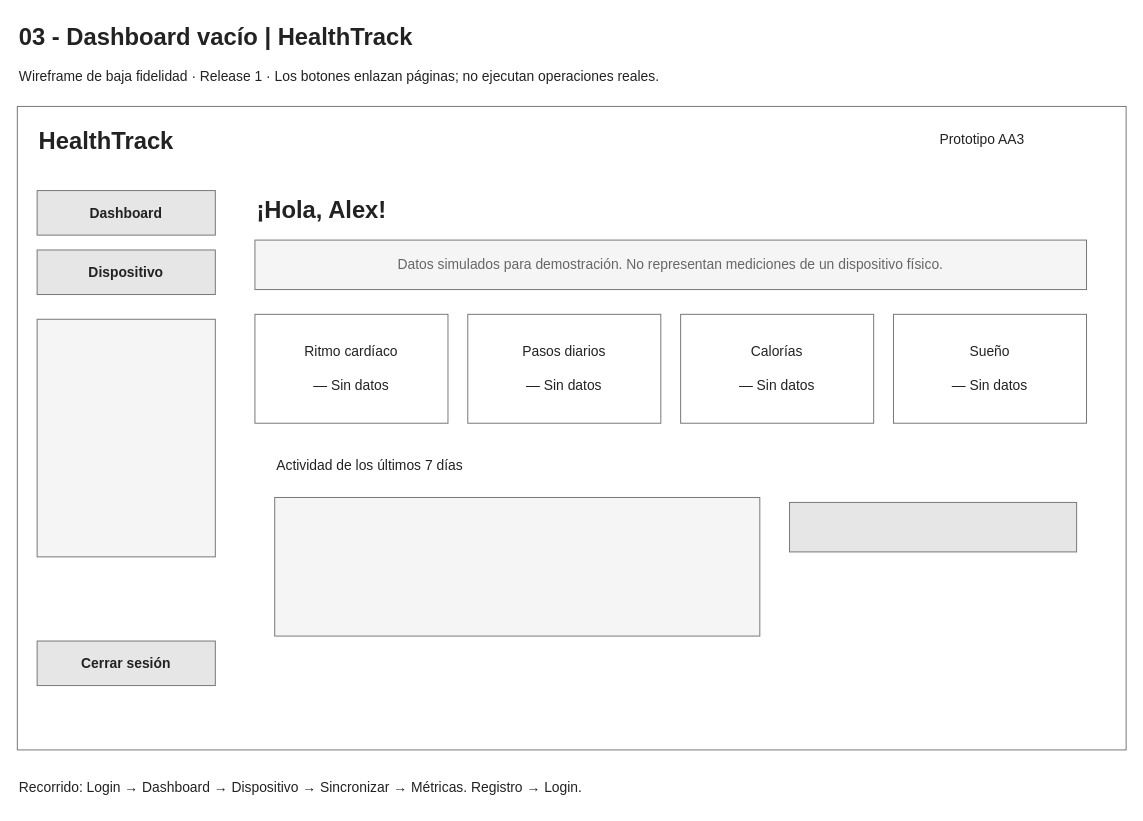
Some shapes in this 1143 by 821 pixel diagram are drawn without their labels. Each missing label, with the centre of its shape:
Aún no hay métricas. Registra un dispositivo y sincroniza.: the point at 517,566
Estadísticas · Pronto Metas · Pronto Historial · Pronto Perfil · Pronto: the point at 125,437
Registrar dispositivo: the point at 933,526
